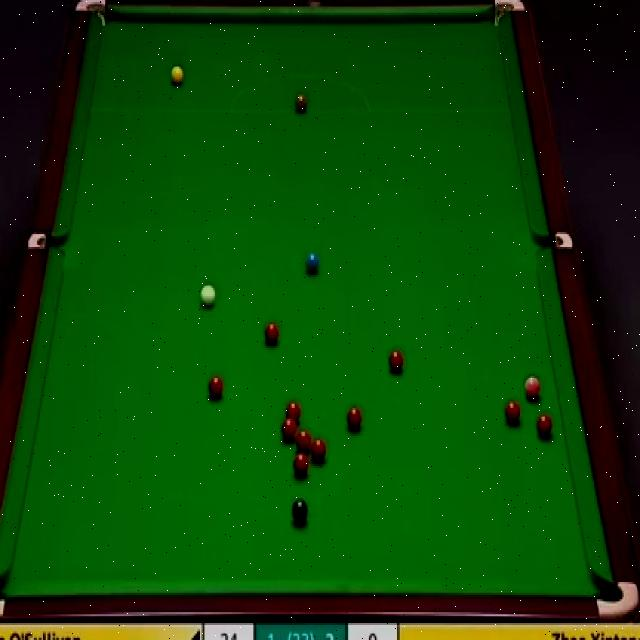black-ball: (291, 498, 308, 525)
blue-ball: (304, 250, 320, 273)
brown-ball: (294, 92, 308, 114)
pink-ball: (524, 374, 541, 401)
red-ball: (207, 373, 225, 402), (310, 438, 328, 464), (506, 400, 524, 425), (346, 404, 363, 430), (264, 322, 280, 346), (537, 414, 553, 438), (293, 453, 308, 478), (388, 349, 403, 374), (296, 432, 313, 451), (284, 401, 302, 418), (281, 417, 296, 434)
white-ball: (198, 285, 216, 312)
yellow-ball: (171, 66, 185, 88)
